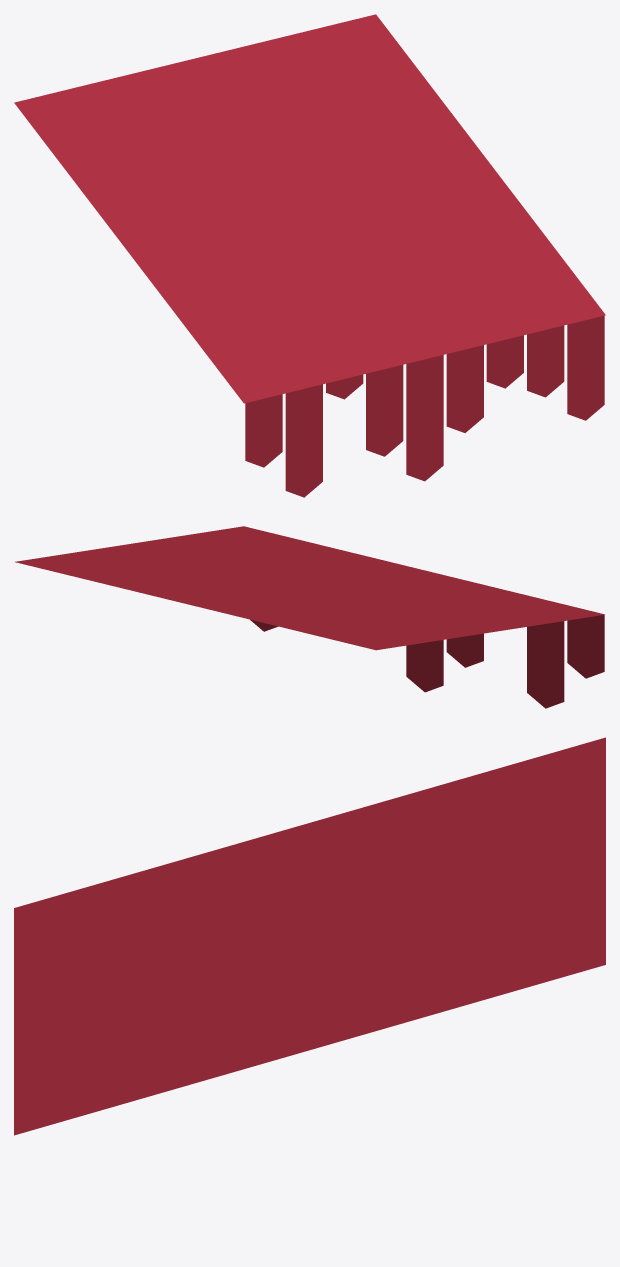
Rendered from SM_Souq_Awning0.fbx.
The picture shows the model from 3 angles, top to bottom: view 1: azimuth 30°, elevation 25°; view 2: azimuth 150°, elevation 25°; view 3: azimuth 270°, elevation 25°; orthographic projection. The views are drawn at different scales.
Visible parts, largest first — view 1: SM_Souq_Awning0; view 2: SM_Souq_Awning0; view 3: SM_Souq_Awning0.
Part boxes in pixels (x1=…): SM_Souq_Awning0: x1=14, y1=14, x2=605, y2=497; SM_Souq_Awning0: x1=15, y1=526, x2=605, y2=708; SM_Souq_Awning0: x1=14, y1=737, x2=605, y2=1135.
Bounding box in the file's own units: 100 × 67.23 × 110.
Materials: 1 (1 with a texture image).
